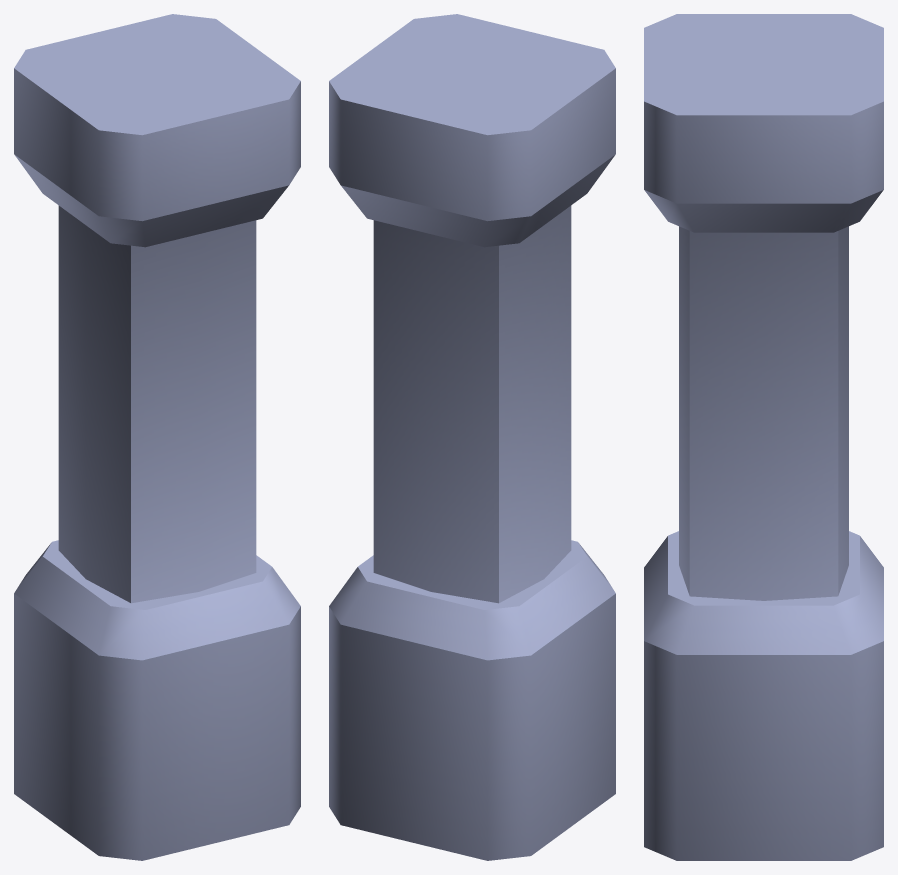
The model's file is border-pillar.glb.
3 renders of one model, left to right at view 1: azimuth 30°, elevation 25°; view 2: azimuth 150°, elevation 25°; view 3: azimuth 270°, elevation 25°, orthographic. The views are drawn at different scales.
Parts seen in each view (by area): view 1: border-pillar; view 2: border-pillar; view 3: border-pillar.
Boxes of the visible parts, x1=… form: border-pillar: x1=14, y1=14, x2=300, y2=860; border-pillar: x1=329, y1=14, x2=615, y2=860; border-pillar: x1=644, y1=14, x2=883, y2=860.
Bounding box in the file's own units: 0.2215 × 0.76 × 0.2215.
Materials: 1 (1 with a texture image).
